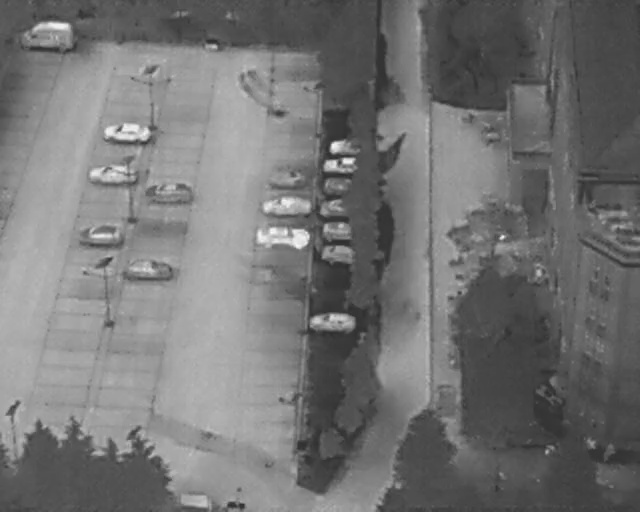Car: (20, 21, 75, 51), (255, 226, 310, 250), (101, 122, 150, 144), (262, 196, 312, 216), (145, 182, 193, 202), (88, 166, 137, 185), (129, 259, 174, 279), (310, 313, 354, 331), (81, 225, 121, 244), (321, 244, 355, 265), (321, 221, 355, 242), (327, 138, 360, 155), (322, 176, 353, 194), (324, 157, 356, 174), (320, 200, 354, 216)
